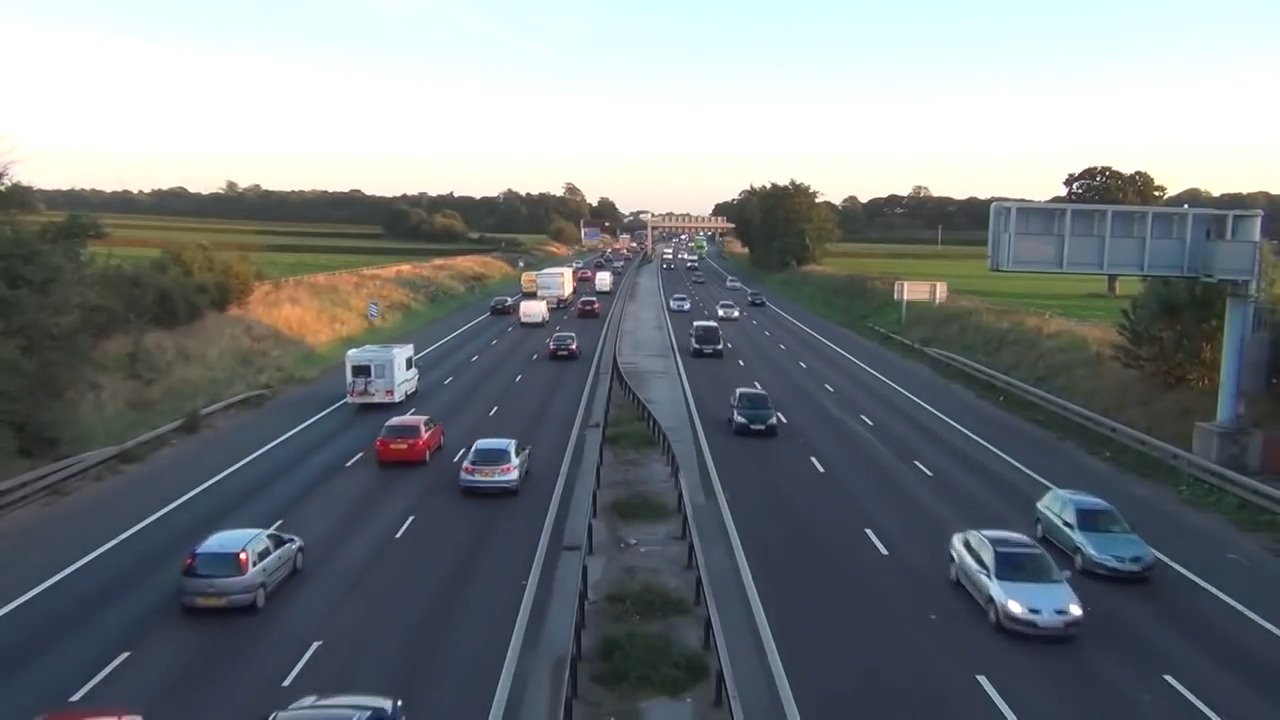truck: (340, 339, 425, 408)
